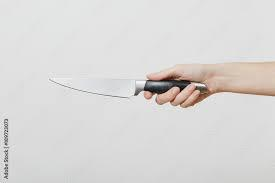Knife: (48, 76, 209, 98)
